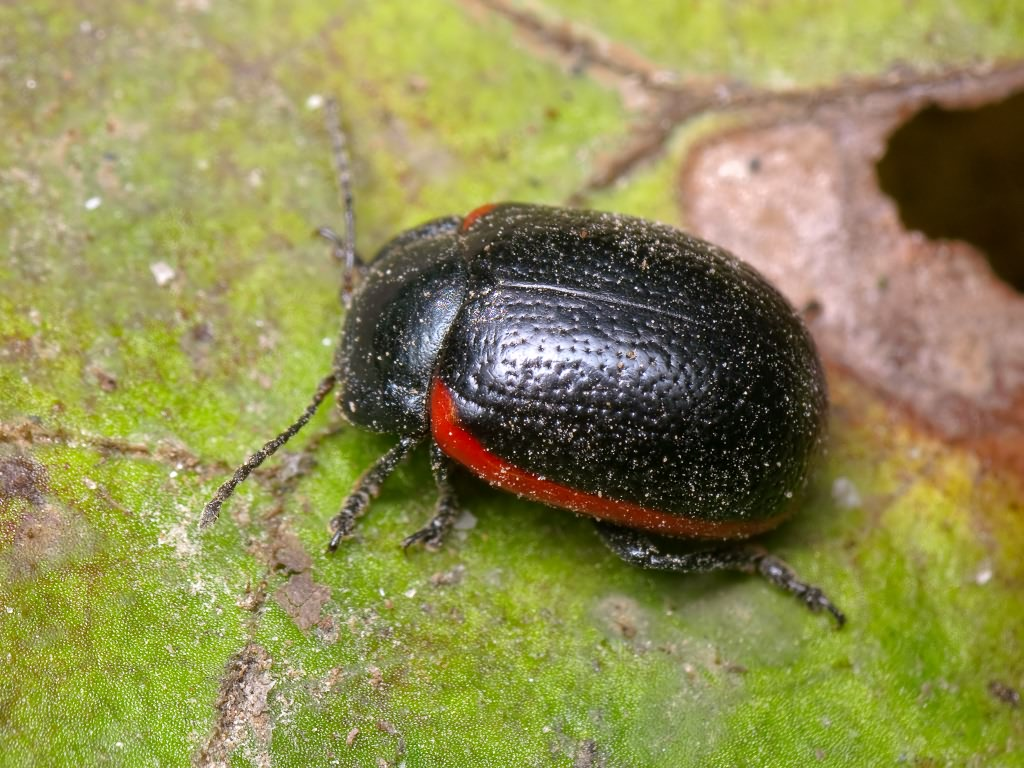Chrysolina_gypsophila: (190, 82, 856, 641)
